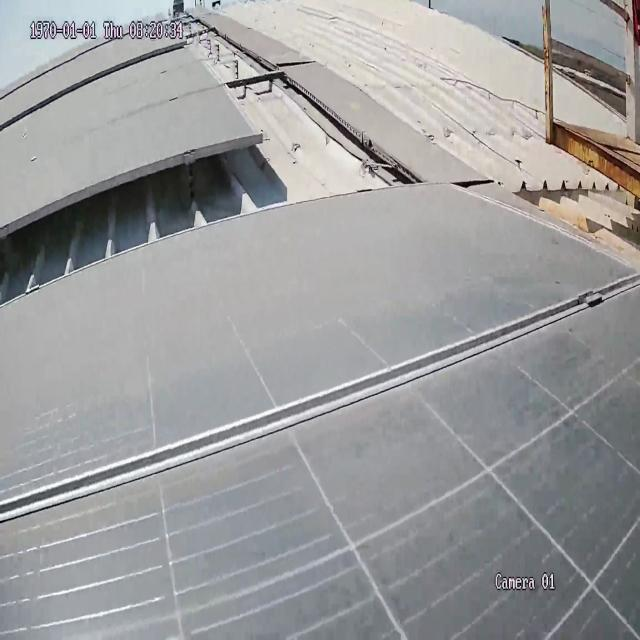interior panel: (0, 256, 640, 545)
outher panel: (0, 0, 640, 291)
